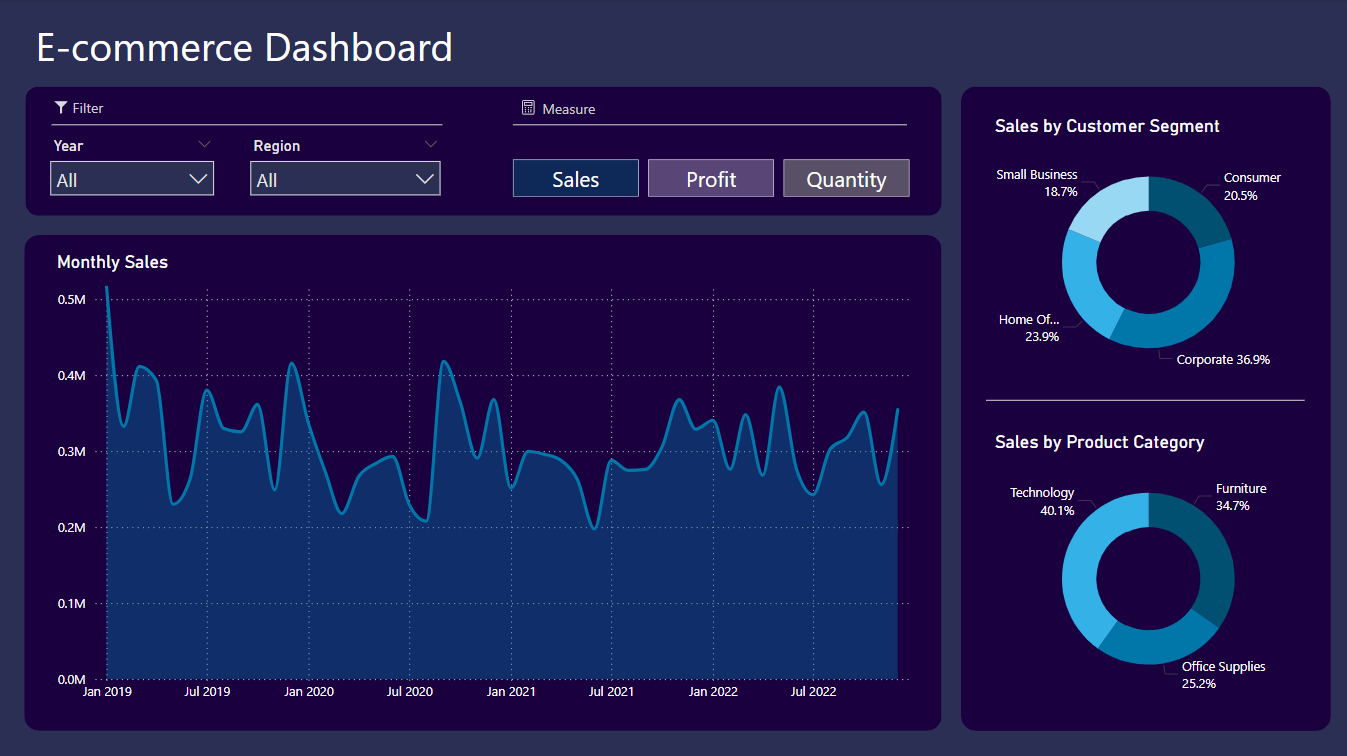

The dashboard page shown, as its layout file describes it:
{"tool":"powerbi","page":{"name":"General overview","canvas":[1280,720],"ordinal":0},"visuals":[{"type":"shape","box":[912.2,82.9,349.9,611.2],"z":0},{"type":"shape","box":[25,82.9,869,122.7],"z":1000},{"type":"image","box":[47.7,72.9,22.5,60],"z":2000},{"type":"textbox","box":[65.2,88.9,70,31.2],"z":3000},{"type":"shape","box":[50.2,98.5,370.3,40.9],"z":4000},{"type":"shape","box":[23.9,223.8,870.2,470.3],"z":5000},{"type":"textbox","box":[30,13.8,833.7,68.7],"z":6000},{"type":"slicer","fields":{"Values":["orders_cleaned.REGION"]},"box":[228.3,126.2,199.9,70.4],"z":7000},{"type":"donutChart","title":"Sales by Customer Segment","fields":{"Y":["orders_cleaned.Total Sales"],"Series":["orders_cleaned.CUSTOMERSEGMENT"]},"box":[940,110,300,260],"z":8000},{"type":"slicer","fields":{"Values":["orders_cleaned.ORDER_YEAR"]},"box":[38.6,126.2,175,71.6],"z":9000},{"type":"donutChart","title":"Sales by Product Category","fields":{"Y":["orders_cleaned.Total Sales"],"Series":["orders_cleaned.PRODUCTCATEGORY"]},"box":[940,410,300,260],"z":10000},{"type":"areaChart","title":"Monthly Sales","fields":{"Y":["Sum(orders_cleaned.SALES)"],"Category":["orders_cleaned.ORDERDATE.Variation.Date Hierarchy.Year","orders_cleaned.ORDERDATE.Variation.Date Hierarchy.Month"]},"box":[50,240,829.3,436.2],"z":11000},{"type":"actionButton","title":"SalesButton","box":[487.3,152.5,119.3,35.2],"z":12000},{"type":"actionButton","title":"ProfitButton","box":[615.7,152.5,119.3,35.2],"z":13000},{"type":"actionButton","title":"QuantityButton","box":[744.1,152.5,119.3,35.2],"z":15000},{"type":"shape","box":[936,360.1,301,40.9],"z":20000},{"type":"textbox","box":[510.3,89.4,69.3,30.7],"z":22000},{"type":"shape","box":[487.6,98.5,373.7,40.9],"z":23000},{"type":"image","box":[487.6,89.4,29,26],"z":24000}]}

Visuals, with their boxes in screenshot pixels (x1, y1, x2, y2), scaled from the page's 1280x720 canvas onto the 1347x756 screenshot:
shape: {"x1": 960, "y1": 87, "x2": 1328, "y2": 729}
shape: {"x1": 26, "y1": 87, "x2": 941, "y2": 216}
image: {"x1": 50, "y1": 77, "x2": 74, "y2": 140}
textbox: {"x1": 69, "y1": 93, "x2": 142, "y2": 126}
shape: {"x1": 53, "y1": 103, "x2": 443, "y2": 146}
shape: {"x1": 25, "y1": 235, "x2": 941, "y2": 729}
textbox: {"x1": 32, "y1": 14, "x2": 909, "y2": 87}
slicer - orders_cleaned.REGION: {"x1": 240, "y1": 133, "x2": 451, "y2": 206}
"Sales by Customer Segment" donutChart: {"x1": 989, "y1": 116, "x2": 1305, "y2": 388}
slicer - orders_cleaned.ORDER_YEAR: {"x1": 41, "y1": 133, "x2": 225, "y2": 208}
"Sales by Product Category" donutChart: {"x1": 989, "y1": 430, "x2": 1305, "y2": 704}
"Monthly Sales" areaChart: {"x1": 53, "y1": 252, "x2": 925, "y2": 710}
"SalesButton" actionButton: {"x1": 513, "y1": 160, "x2": 638, "y2": 197}
"ProfitButton" actionButton: {"x1": 648, "y1": 160, "x2": 773, "y2": 197}
"QuantityButton" actionButton: {"x1": 783, "y1": 160, "x2": 909, "y2": 197}
shape: {"x1": 985, "y1": 378, "x2": 1302, "y2": 421}
textbox: {"x1": 537, "y1": 94, "x2": 610, "y2": 126}
shape: {"x1": 513, "y1": 103, "x2": 906, "y2": 146}
image: {"x1": 513, "y1": 94, "x2": 544, "y2": 121}
